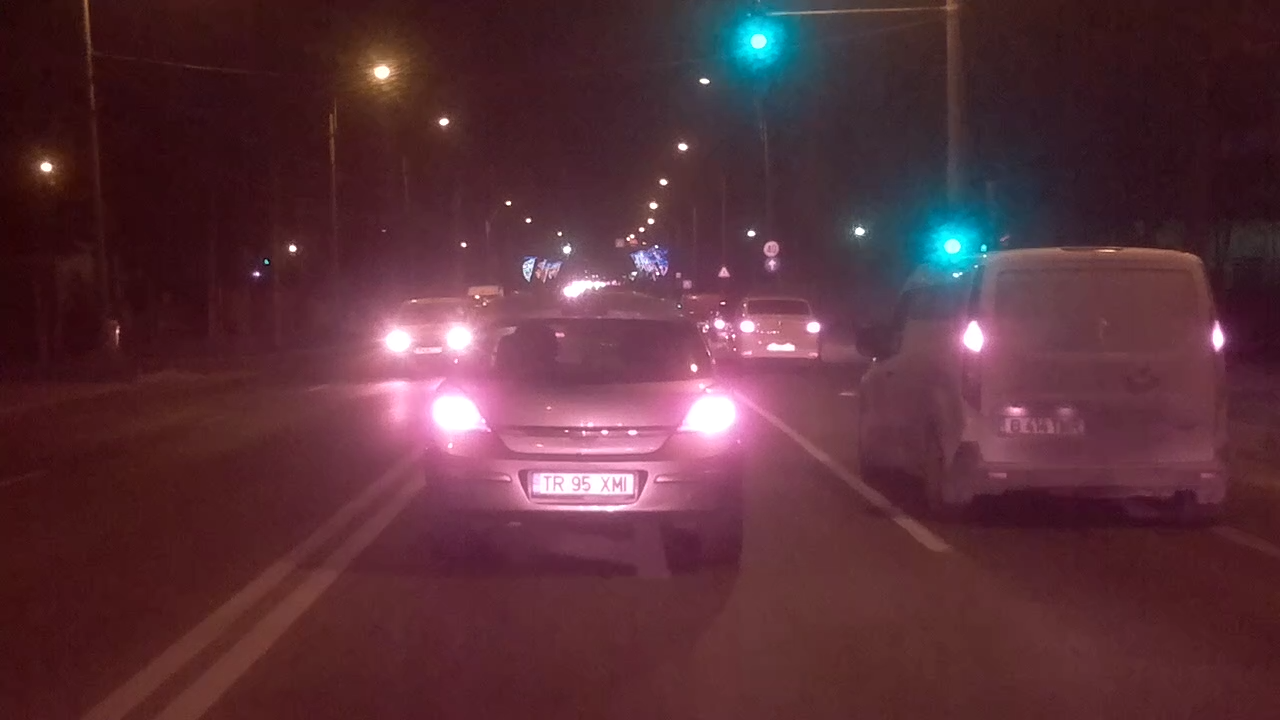license-plate: (525, 468, 641, 500)
